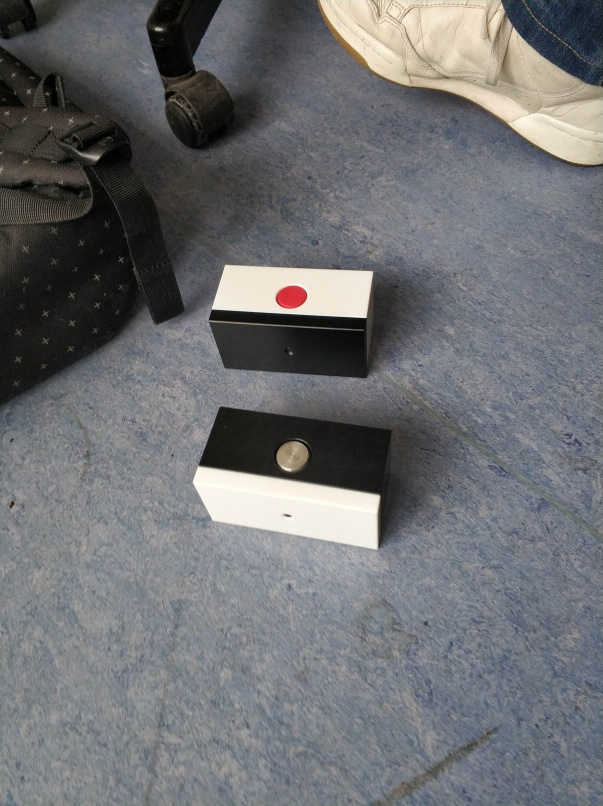black+white+red: (207, 261, 379, 380)
white+black+silver: (192, 400, 395, 553)
